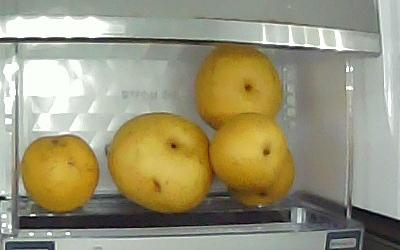pear: (106, 112, 214, 213), (195, 46, 283, 133), (207, 113, 288, 191), (19, 134, 99, 212), (225, 143, 296, 209)
